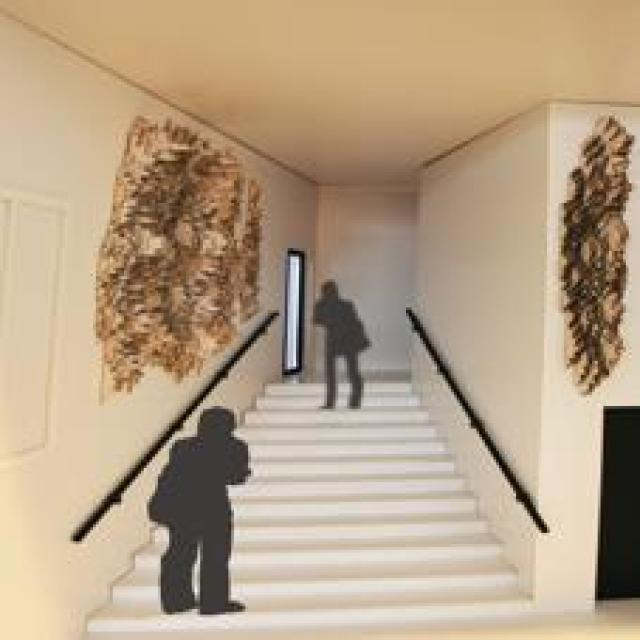upstair: (139, 534, 503, 638)
